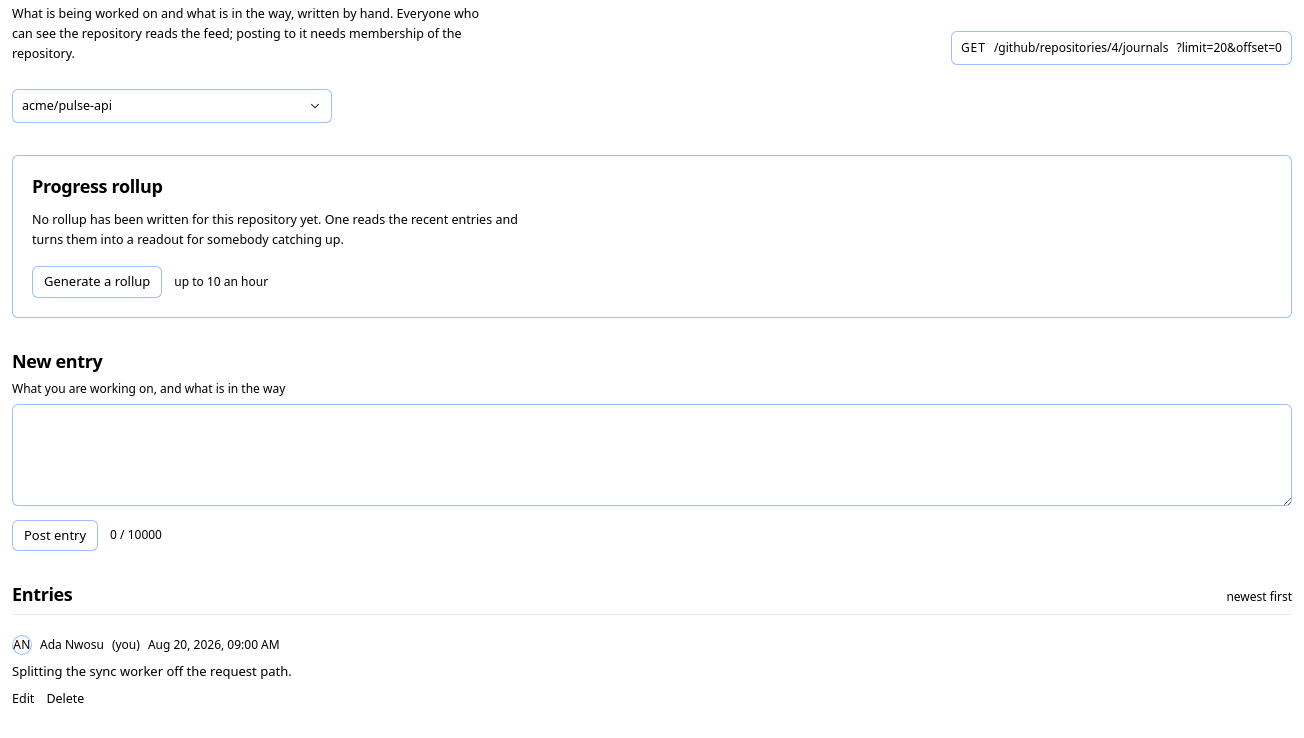
Test: /journal · your own entries › says a 403 on an edit plainly instead of failing quietly
The width and height of the screenshot is (1304, 738).
Click the button with test id "entry-edit": click(23, 700) x1=12 y1=690 x2=34 y2=709
(page scrolled)
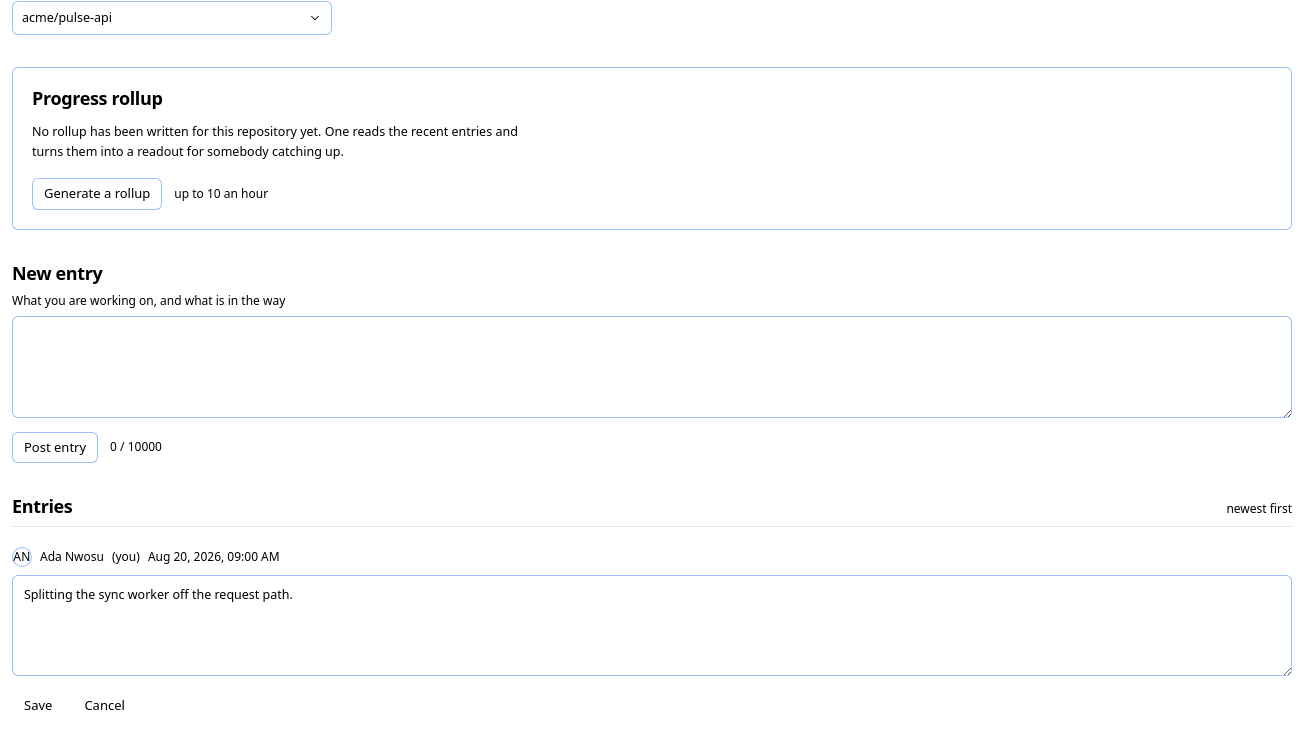
Replace the text in the text box with test id "entry-editor" with "Changed.": (652, 626) x1=12 y1=575 x2=1292 y2=676
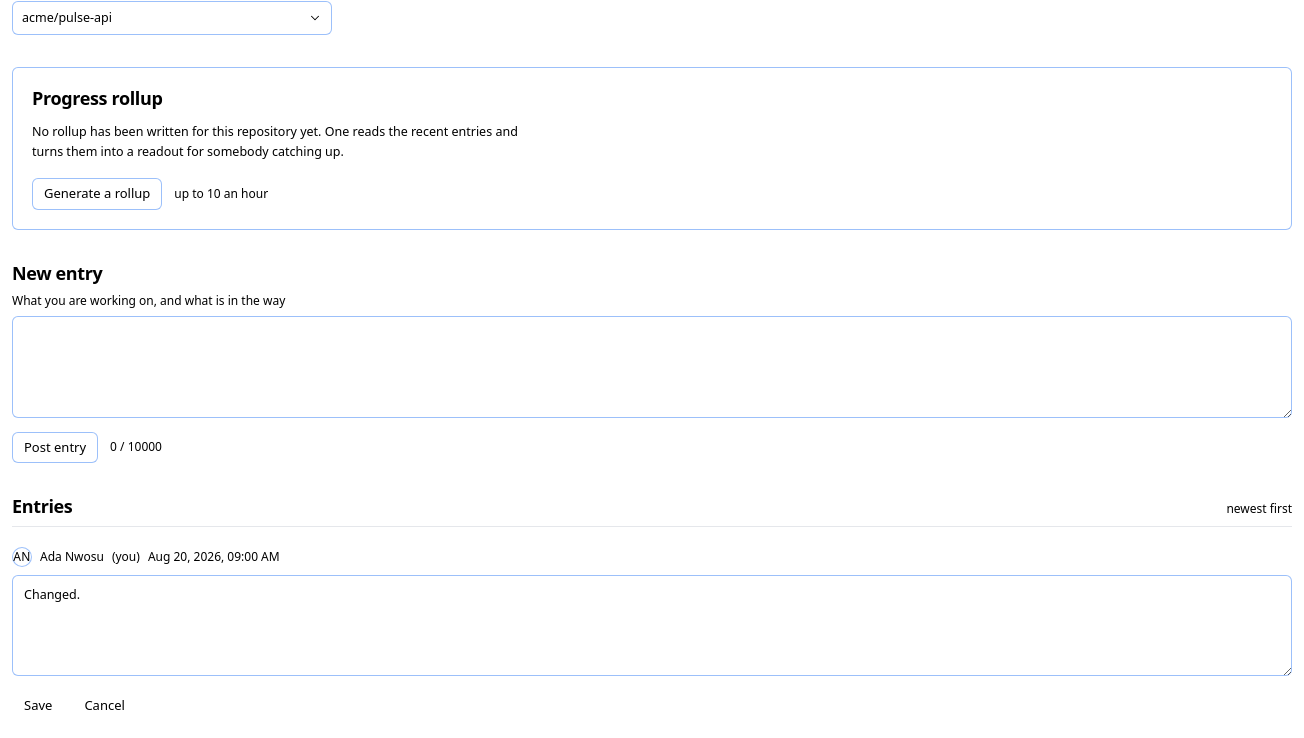
Click the button with test id "entry-save": click(38, 706) x1=12 y1=690 x2=64 y2=722
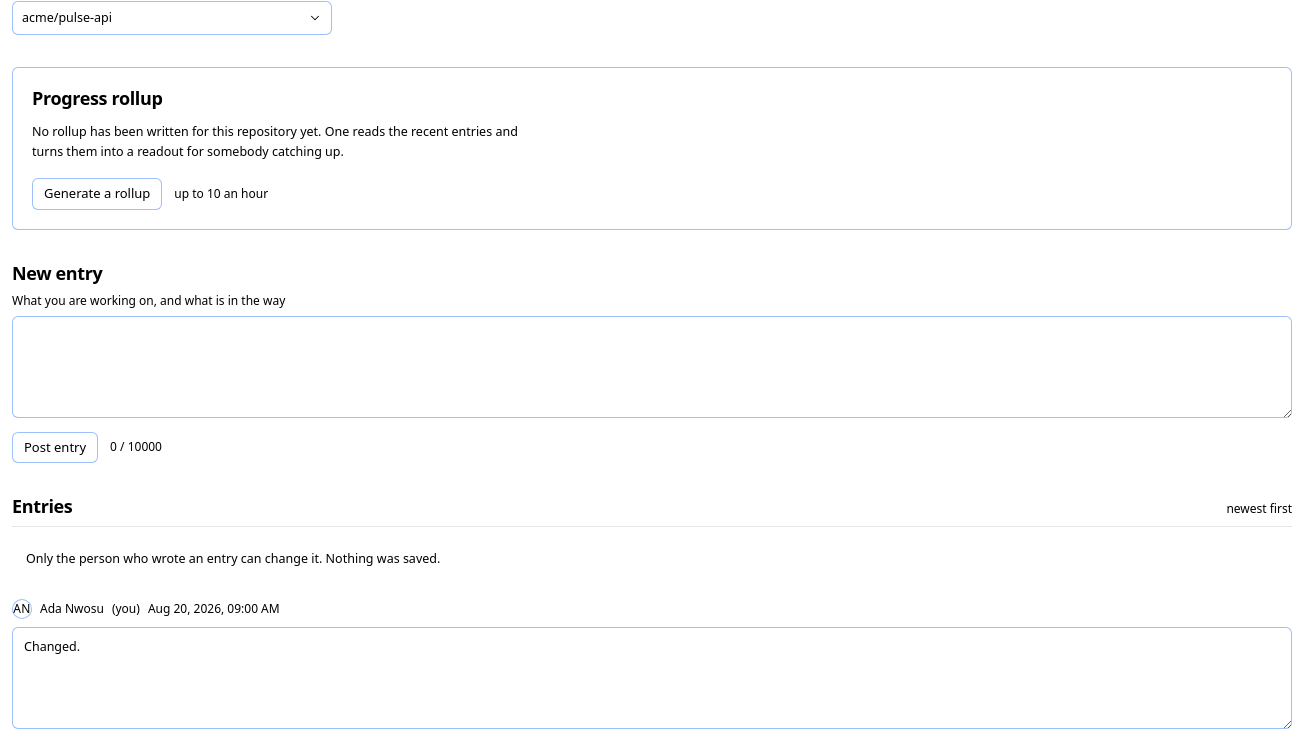
Result: the message with test id "entry-error" shows "Only the person who wrote an entry can change it" at x1=26 y1=550 x2=440 y2=567
